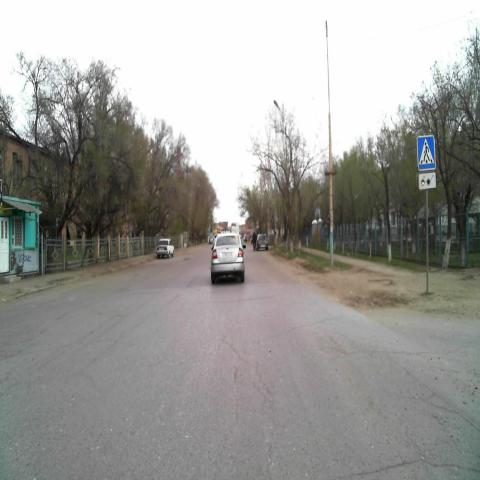8_15: (418, 172, 436, 190)
